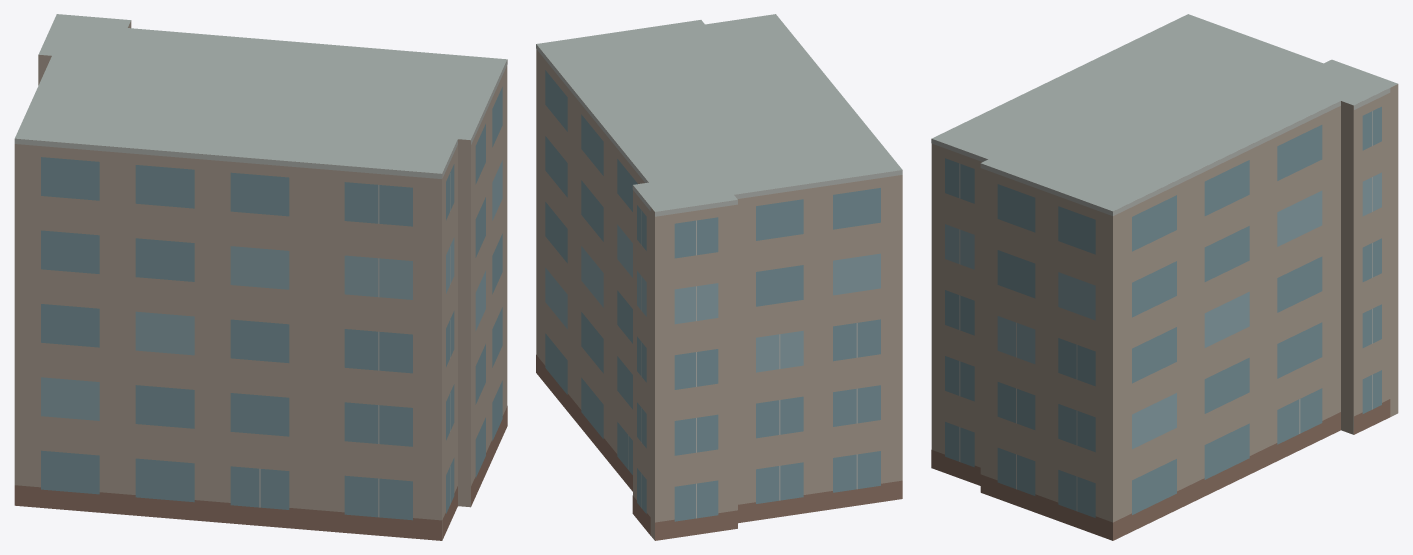
File: survey-upis-32755050.glb
The picture shows the model from 3 angles, left to right: view 1: azimuth 30°, elevation 25°; view 2: azimuth 150°, elevation 25°; view 3: azimuth 270°, elevation 25°; orthographic projection. The views are drawn at different scales.
Parts seen in each view (by area): view 1: survey-upis-32755050.tmp; view 2: survey-upis-32755050.tmp; view 3: survey-upis-32755050.tmp.
Part boxes in pixels (x1,y1,x2,y2): survey-upis-32755050.tmp: (14,14,507,540); survey-upis-32755050.tmp: (536,14,902,540); survey-upis-32755050.tmp: (931,14,1398,540).
Bounding box in the file's own units: 21.6 × 16.8 × 21.59.
